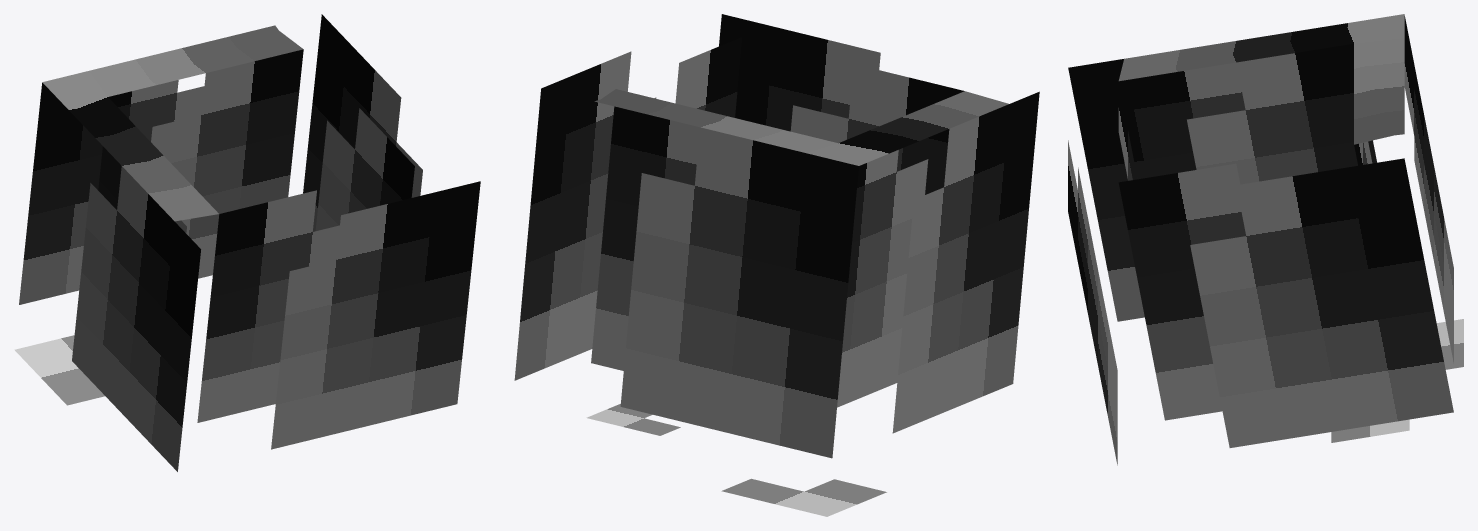
Rendered from treetap_bucket.obj.
3 views of the same model, side by side, from view 1: azimuth 30°, elevation 25°; view 2: azimuth 150°, elevation 25°; view 3: azimuth 270°, elevation 25° (orthographic). The views are drawn at different scales.
Visible parts, largest first — view 1: bucket; view 2: bucket; view 3: bucket.
Boxes of the visible parts, x1=… form: bucket: x1=14, y1=14, x2=480, y2=471; bucket: x1=514, y1=14, x2=1039, y2=516; bucket: x1=1068, y1=14, x2=1463, y2=465.
Size of the model in its own units: 0.4 by 0.4634 by 0.4634.
